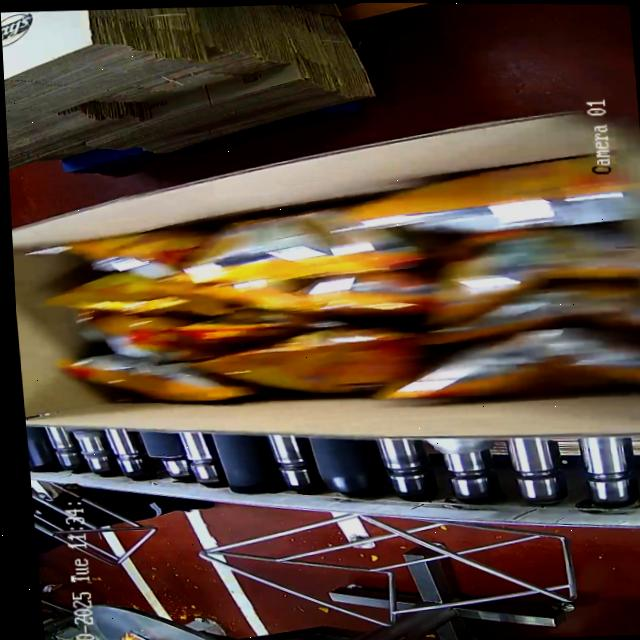FRENCH_CHEESE: (43, 162, 640, 416)
